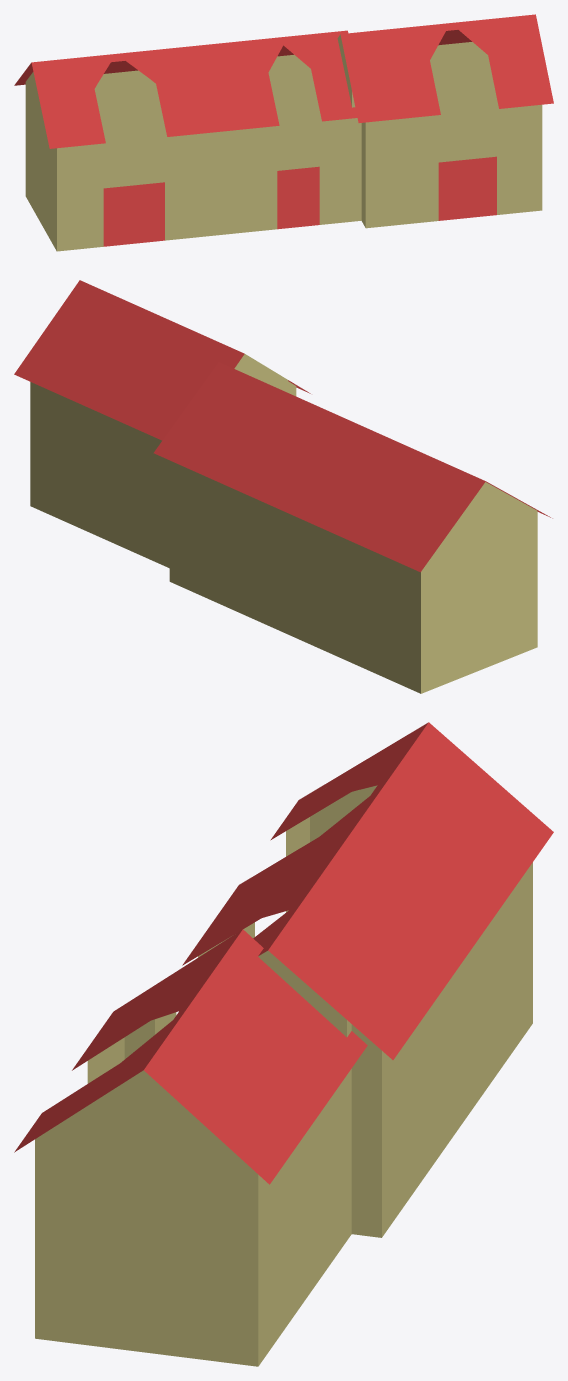
3 renders of one model, top to bottom at view 1: azimuth 30°, elevation 25°; view 2: azimuth 150°, elevation 25°; view 3: azimuth 270°, elevation 25°, orthographic. The views are drawn at different scales.
Bounding box in the file's own units: 41.14 × 24.12 × 14.27.
